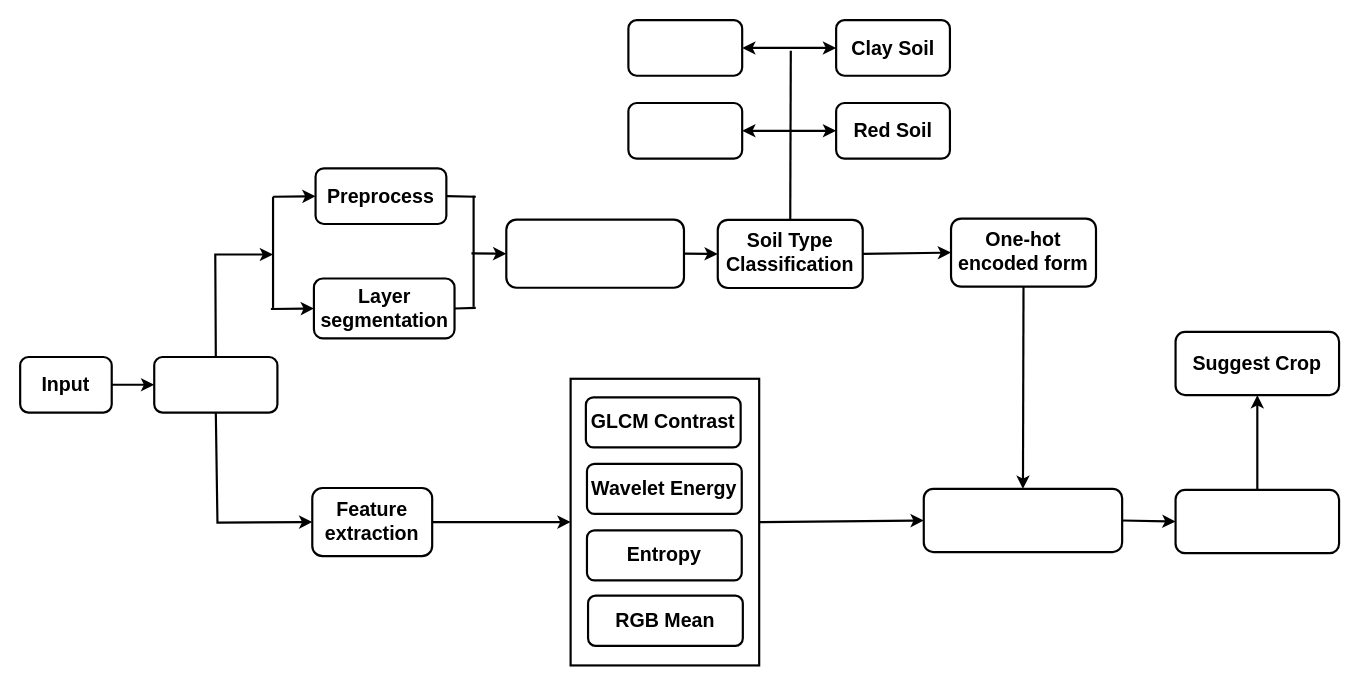
Some shapes in this 1358 by 685 pixel diagram are drawn without their labels. Here are the shapes that lost their labels. From the top down, the centre of each, then its label:
the point at 685,47: Alluvial Soil
the point at 685,130: Black Soil
the point at 595,253: Swin Transformer Block
the point at 215,384: Test Image
the point at 1022,520: Combined Features
the point at 1257,521: Random Forest Block
